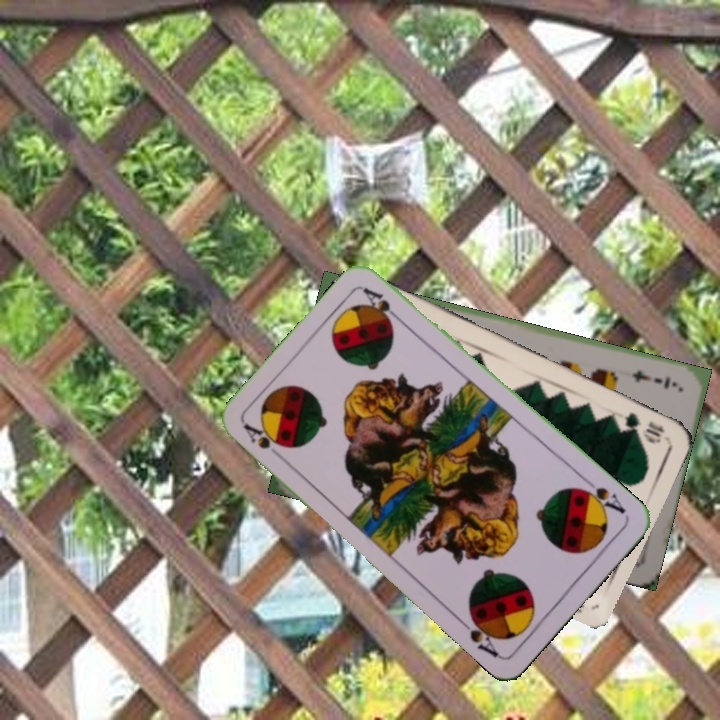E7: (627, 365, 680, 391)
G10: (620, 408, 667, 446)
SA: (574, 474, 629, 517), (239, 419, 289, 464)
